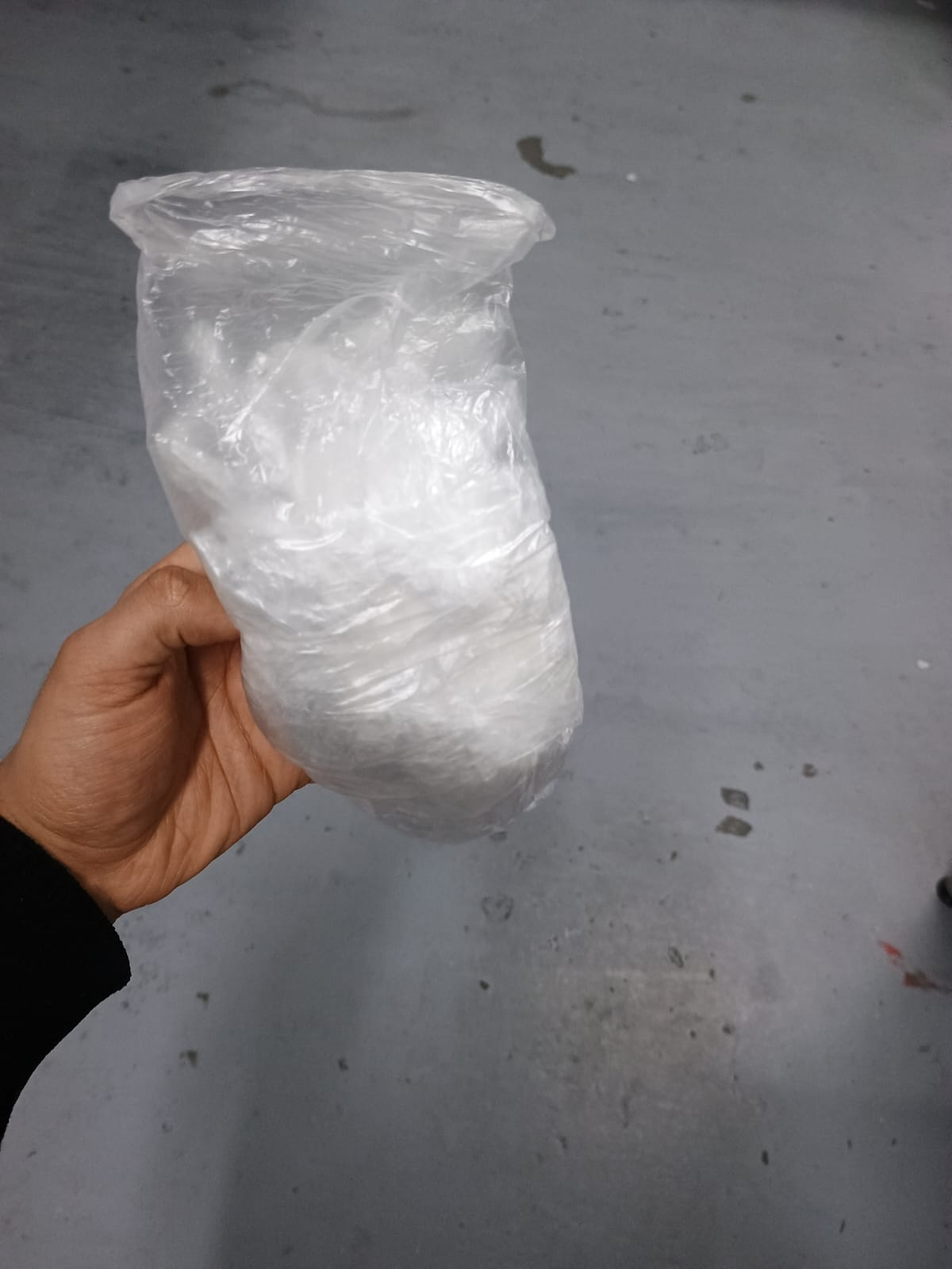Plastico: (110, 163, 582, 846)
